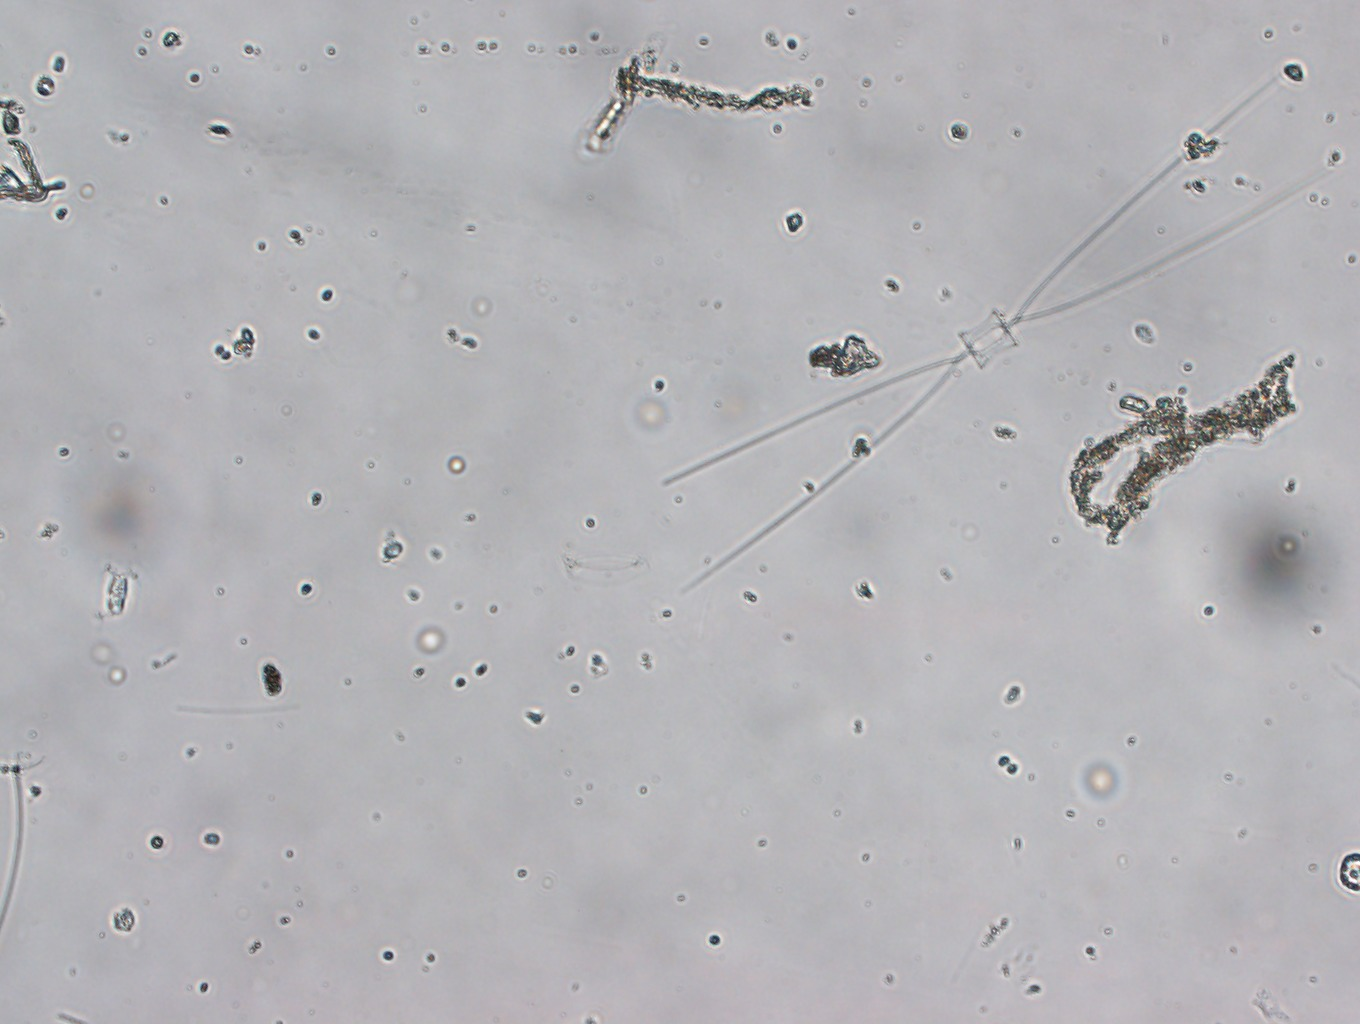chaetoceros: (642, 67, 1312, 614)
